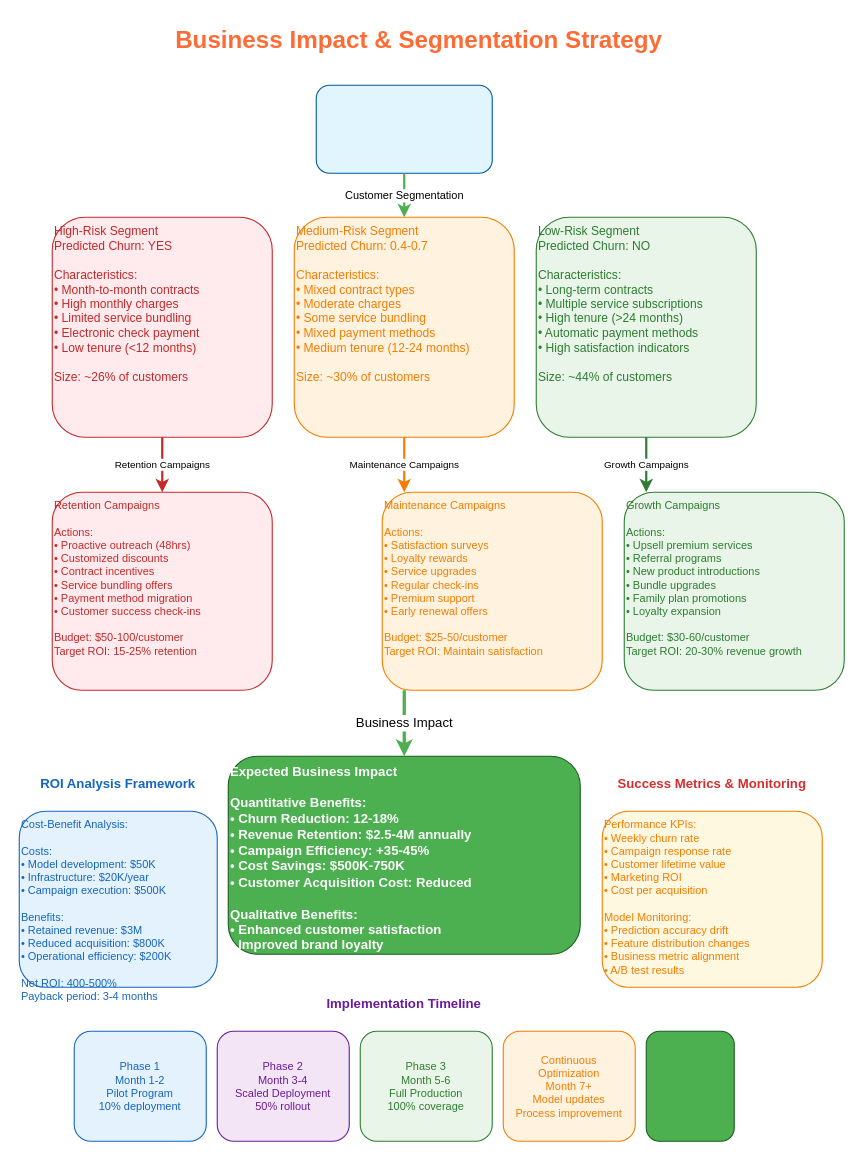
Image size: 864x1161. Some labels were removed from this diagram. Here are the shapes that lost their labels. From the top down, the centre of each, then its label:
At [403,128]: "Optimized ANN Model F1-Score Optimized Real-time Prediction".
At [689,1085]: "ML Excellence Month 12+ Advanced features Market leadership".
